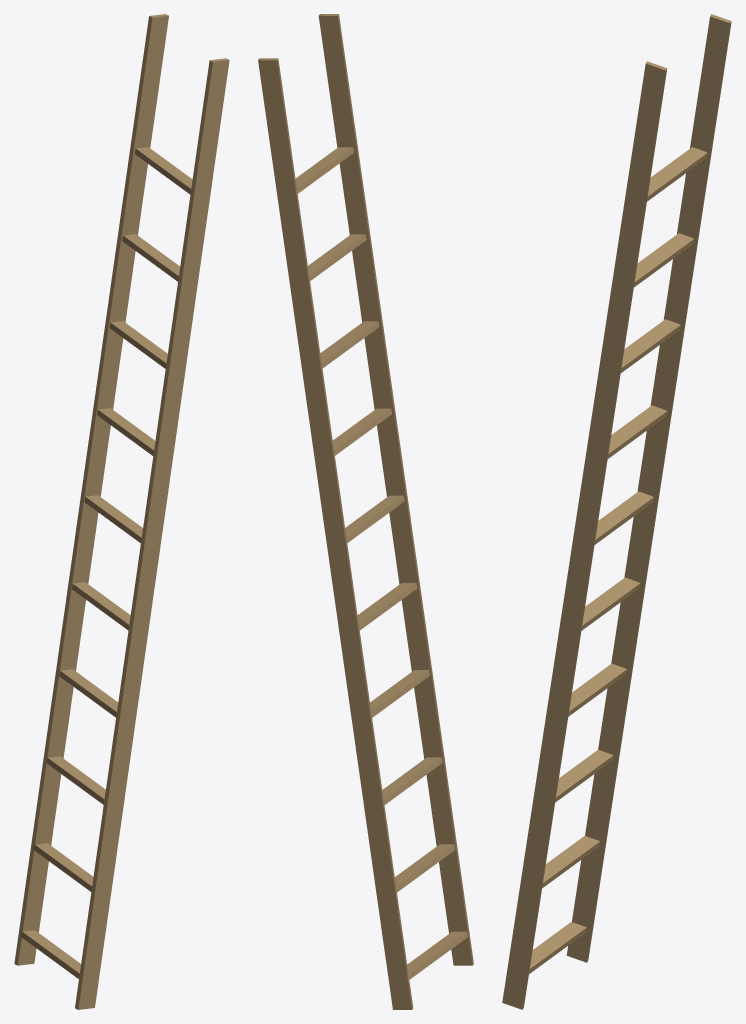
File: ladder.fbx
3 views of the same model, side by side, from view 1: azimuth 30°, elevation 25°; view 2: azimuth 150°, elevation 25°; view 3: azimuth 330°, elevation 25° (orthographic). The views are drawn at different scales.
Visible parts, largest first — view 1: polySurface315; view 2: polySurface315; view 3: polySurface315.
Part boxes in pixels (x1=…): polySurface315: x1=14, y1=14, x2=229, y2=1009; polySurface315: x1=258, y1=14, x2=473, y2=1009; polySurface315: x1=502, y1=14, x2=731, y2=1009.
Bounding box in the file's own units: 0.6982 × 3.99 × 0.5047.
